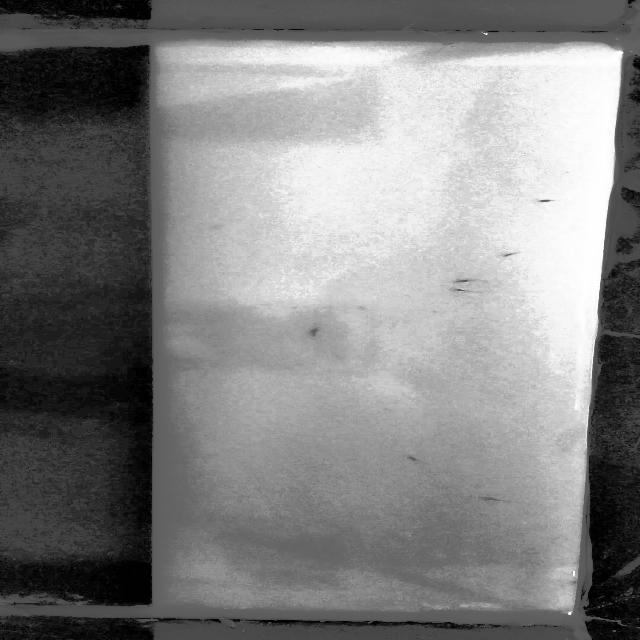shrimp: (393, 449, 424, 467), (296, 323, 324, 339), (450, 276, 484, 288), (491, 246, 516, 261), (526, 191, 554, 204), (478, 492, 504, 505), (447, 288, 482, 296)
